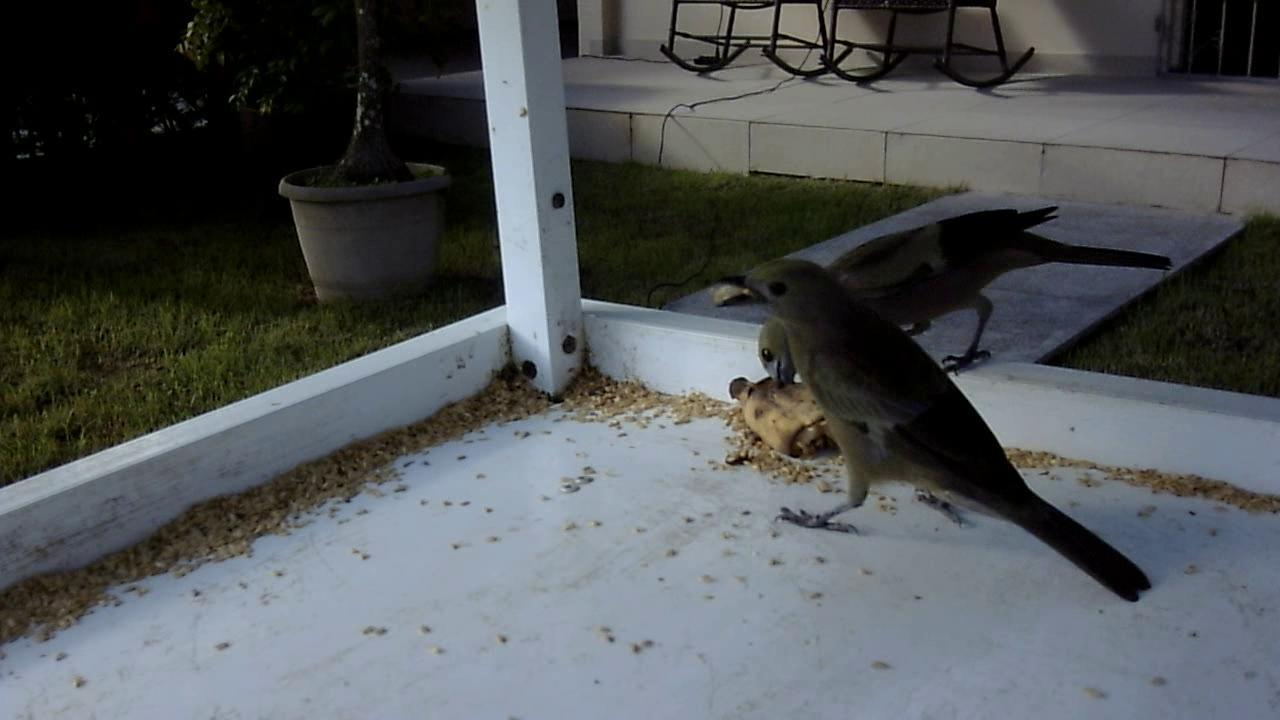sanhaco_do_coqueiro: (723, 263, 1158, 611), (740, 176, 1183, 390)
